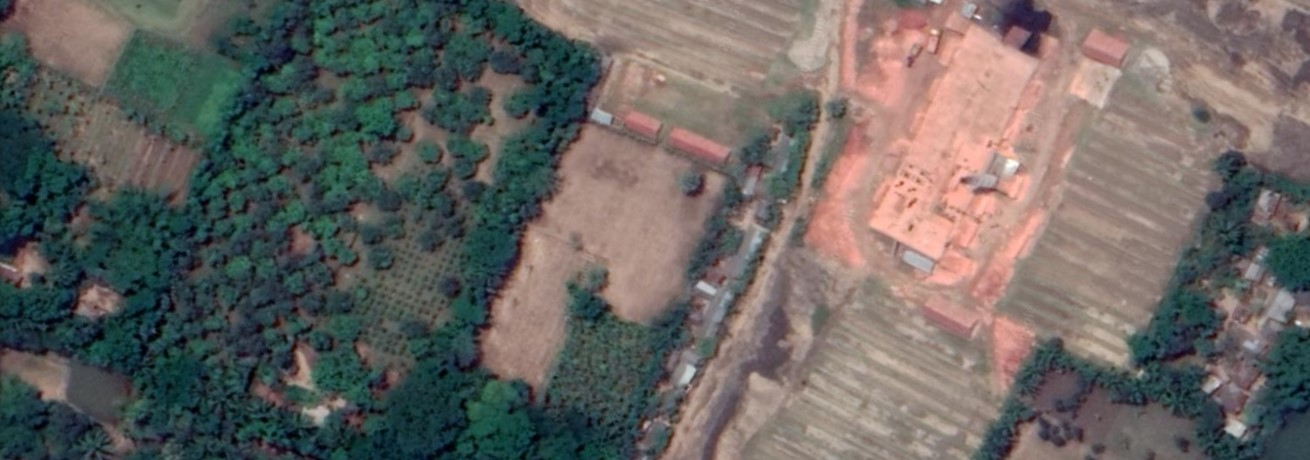kiln: (868, 56, 1075, 253)
